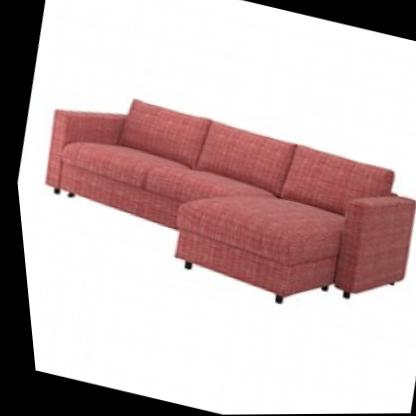Sofa: (9, 66, 416, 335)
